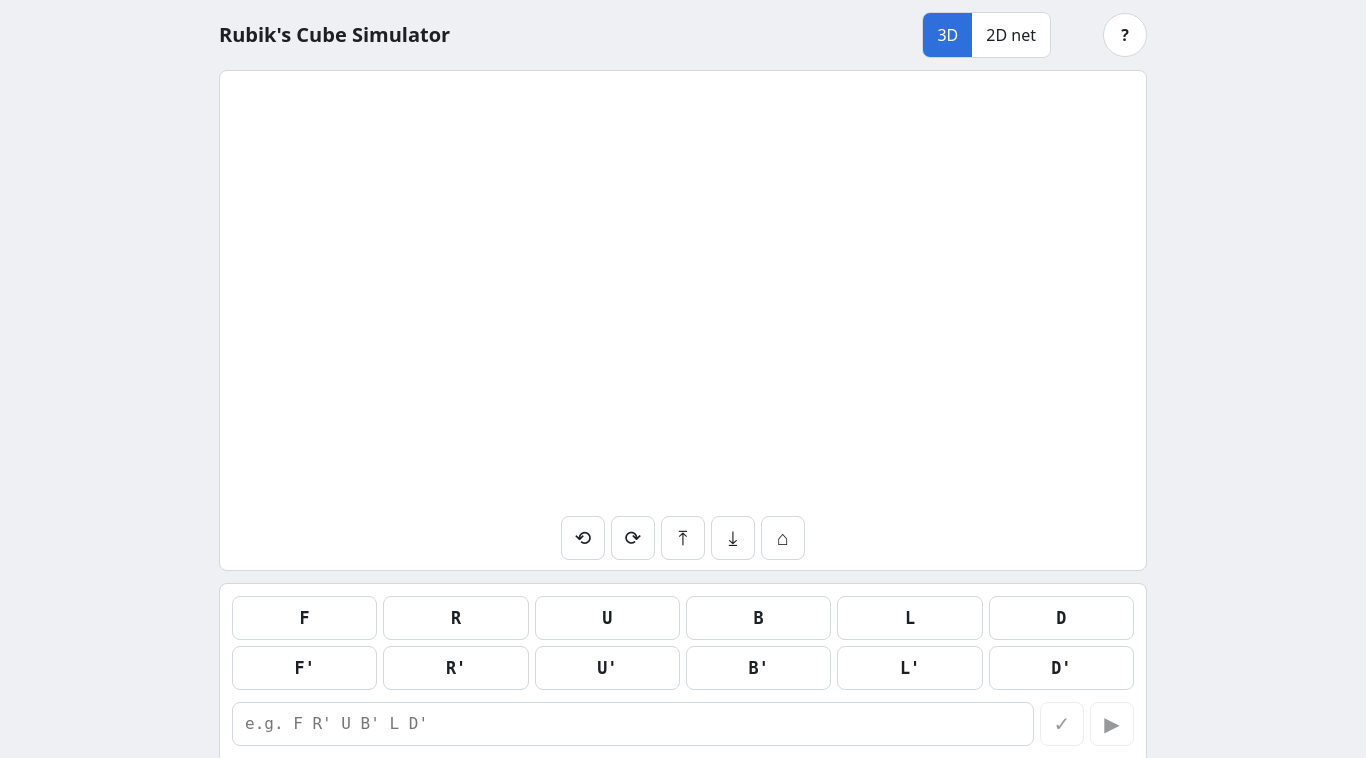
Test: App › Solve on a solved cube says so
Click the tab "2D net": (1011, 35) x1=972 y1=13 x2=1050 y2=57
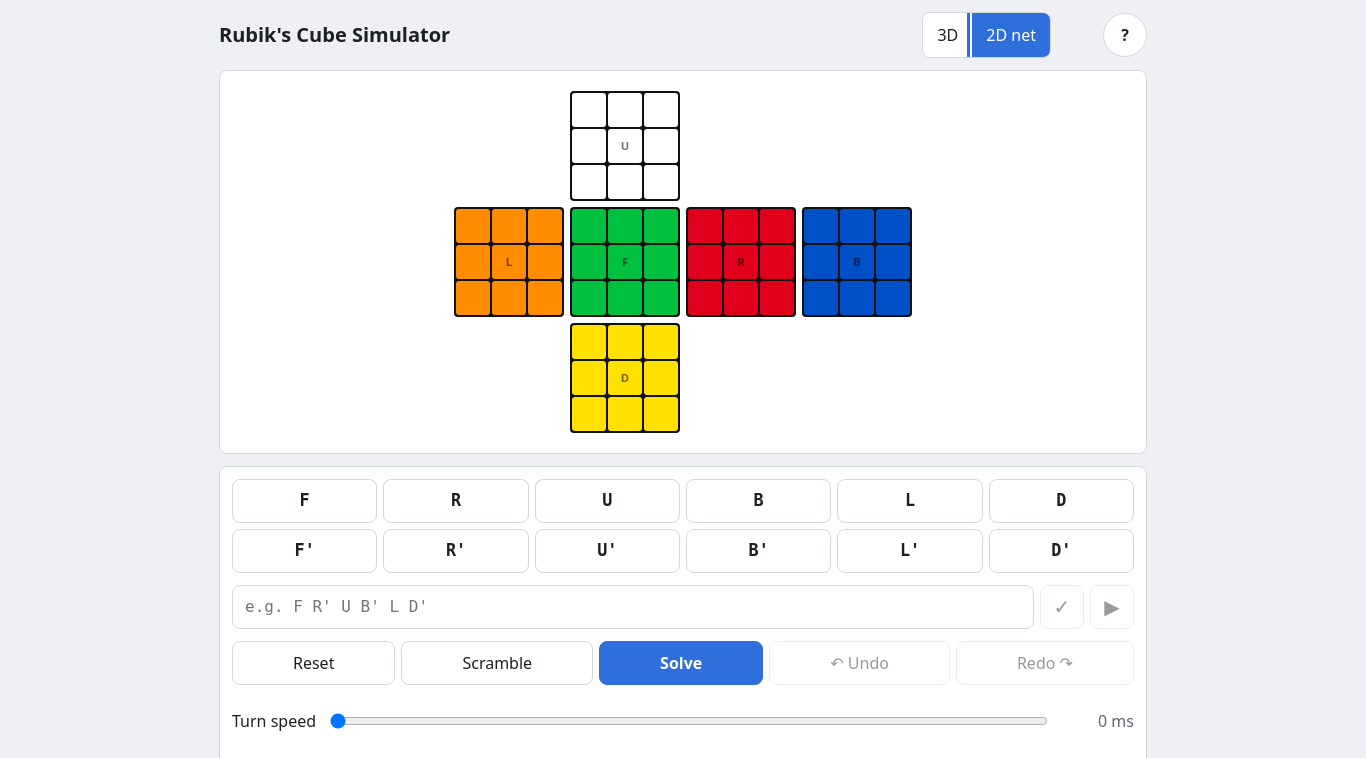
Click the button "Solve": (681, 663) x1=599 y1=641 x2=763 y2=685
(page scrolled)
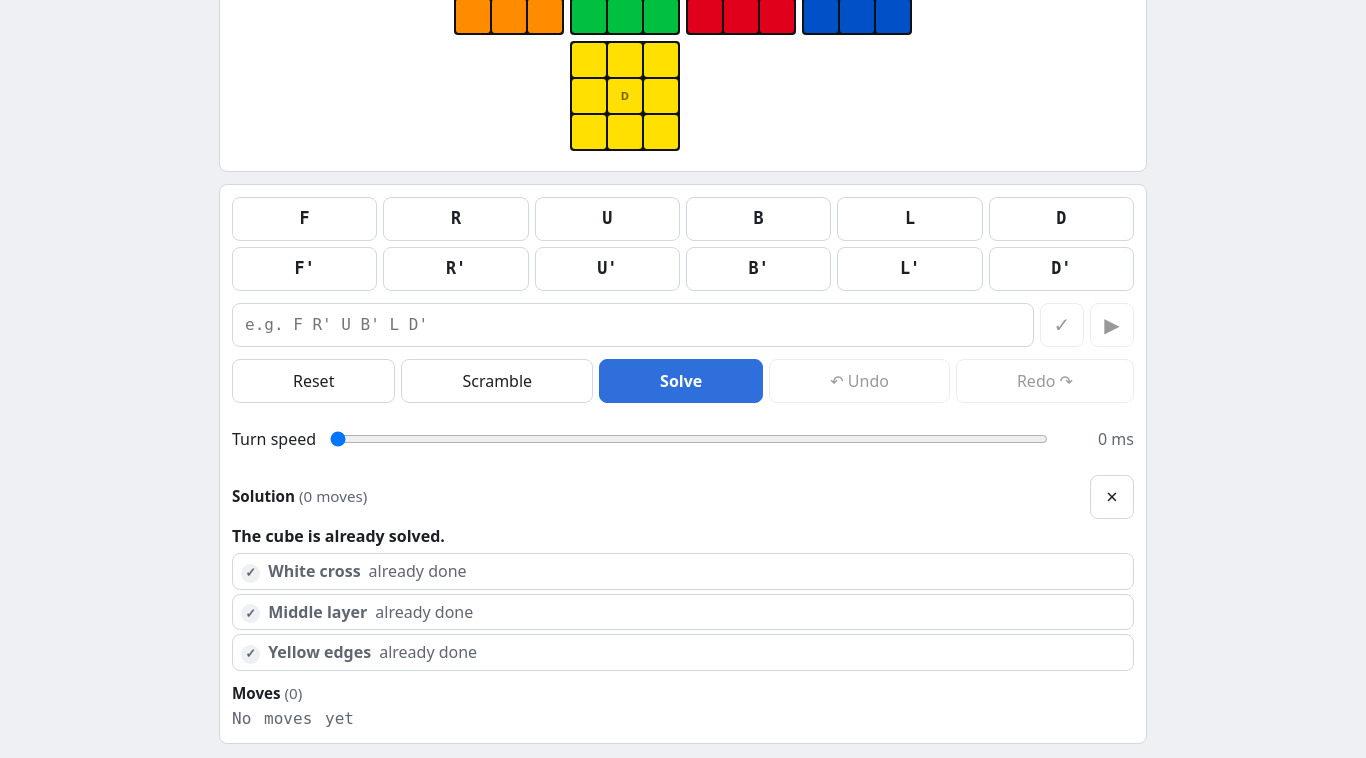
Expected: the text "The cube is already solved." is shown, x1=232 y1=525 x2=445 y2=547
